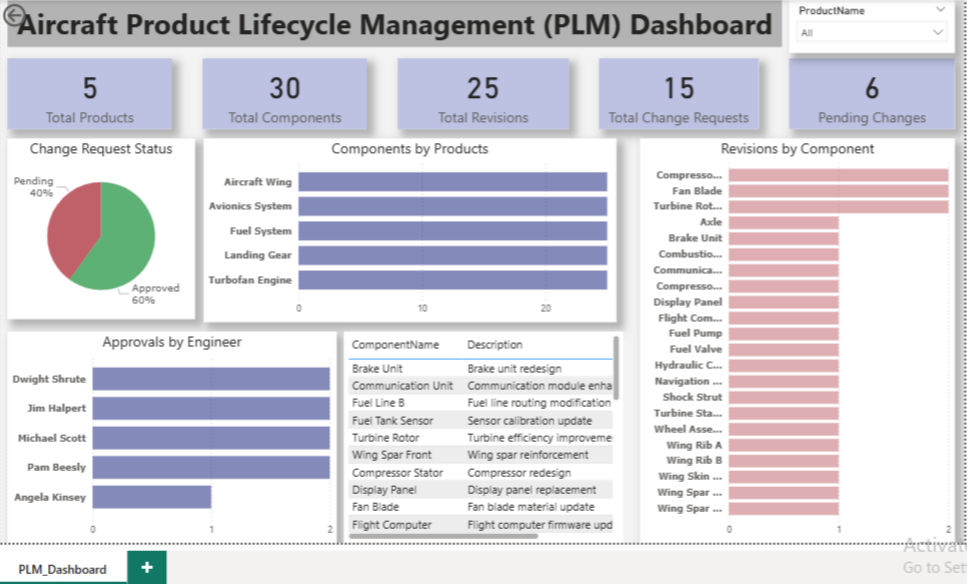

The page's visual inventory and layout, read from the dashboard file:
{"tool":"powerbi","page":{"name":"PLM_Dashboard","canvas":[1280,720],"ordinal":0},"visuals":[{"type":"textbox","box":[10.6,0,1028.2,62.4],"z":0},{"type":"card","fields":{"Values":["CountNonNull(Product.ProductID)"]},"box":[10.1,77.3,218.4,94.1],"z":1000},{"type":"card","fields":{"Values":["CountNonNull(Component.ComponentID)"]},"box":[269.2,77.3,218.4,94.1],"z":2000},{"type":"card","fields":{"Values":["CountNonNull(Revision.RevisionID)"]},"box":[528.3,77.3,226.8,94.1],"z":3000},{"type":"card","fields":{"Values":["CountNonNull(ChangeRequest.ChangeID)"]},"box":[795.8,77.3,211.7,94.1],"z":4000},{"type":"card","fields":{"Values":["ChangeRequest.Pending Changes"]},"box":[1048.2,77.3,220.1,94.1],"z":5000},{"type":"pieChart","title":"Change Request Status","fields":{"Y":["CountNonNull(ChangeRequest.ChangeID)"],"Category":["ChangeRequest.Status"]},"box":[10.1,183.1,248.6,240.2],"z":6000},{"type":"clusteredBarChart","title":"Components by Products","fields":{"Category":["Product.ProductName"],"Y":["CountNonNull(Revision.ComponentID)"]},"box":[270.4,183.1,547.6,243.6],"z":7000},{"type":"clusteredBarChart","title":"Revisions by Component","fields":{"Category":["Component.ComponentName"],"Y":["CountNonNull(Revision.RevisionID)"]},"box":[850,183.1,418.3,537.5],"z":8000},{"type":"clusteredBarChart","title":"Approvals by Engineer","fields":{"Category":["Engineers.EngineerName"],"Y":["CountNonNull(ChangeApproval.ApprovalID)"]},"box":[10.1,440.1,436.7,280.5],"z":9000},{"type":"tableEx","fields":{"Values":["Component.ComponentName","ChangeRequest.Description","ChangeRequest.Status"]},"box":[456.9,440.1,371.2,280.5],"z":10000},{"type":"actionButton","box":[0,0,100,40],"z":11000},{"type":"slicer","fields":{"Values":["Product.ProductName"]},"box":[1048.8,0,220.2,70.2],"z":11001}]}

Visuals, with their boxes on the page's 1280x720 design canvas (x1, y1, x2, y2). These are canvas units, not pixel positions in the 967x584 screenshot, which may show the page scaled, cropped or inside an application window:
textbox: region(11, 0, 1039, 62)
card - CountNonNull(Product.ProductID): region(10, 77, 228, 171)
card - CountNonNull(Component.ComponentID): region(269, 77, 488, 171)
card - CountNonNull(Revision.RevisionID): region(528, 77, 755, 171)
card - CountNonNull(ChangeRequest.ChangeID): region(796, 77, 1008, 171)
card - ChangeRequest.Pending Changes: region(1048, 77, 1268, 171)
"Change Request Status" pieChart: region(10, 183, 259, 423)
"Components by Products" clusteredBarChart: region(270, 183, 818, 427)
"Revisions by Component" clusteredBarChart: region(850, 183, 1268, 721)
"Approvals by Engineer" clusteredBarChart: region(10, 440, 447, 721)
tableEx - Component.ComponentName x ChangeRequest.Description: region(457, 440, 828, 721)
actionButton: region(0, 0, 100, 40)
slicer - Product.ProductName: region(1049, 0, 1269, 70)
